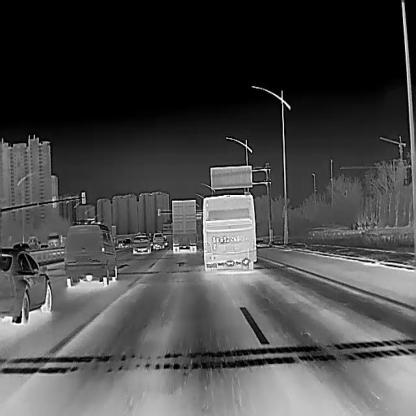car: (202, 191, 257, 271), (0, 247, 52, 322), (64, 223, 118, 286), (172, 199, 196, 252), (132, 235, 150, 253), (47, 232, 66, 248), (27, 235, 48, 249), (152, 233, 165, 249), (12, 242, 29, 250)
